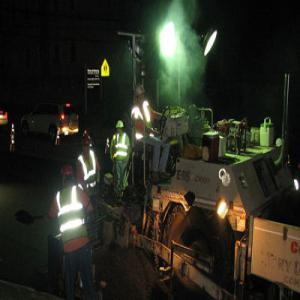red: (60, 164, 79, 189), (82, 132, 93, 155)
white: (135, 84, 148, 106), (116, 119, 126, 136)
